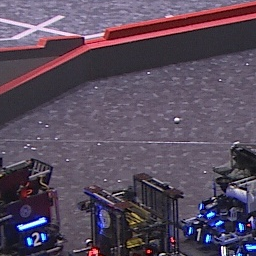Blue: (187, 225, 212, 245), (26, 233, 48, 246)
Robot: (71, 172, 186, 256), (183, 138, 256, 256), (1, 153, 66, 256)
